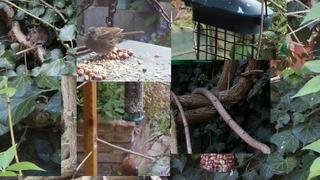dunnock: (84, 27, 144, 61)
mouse: (26, 27, 50, 50)
